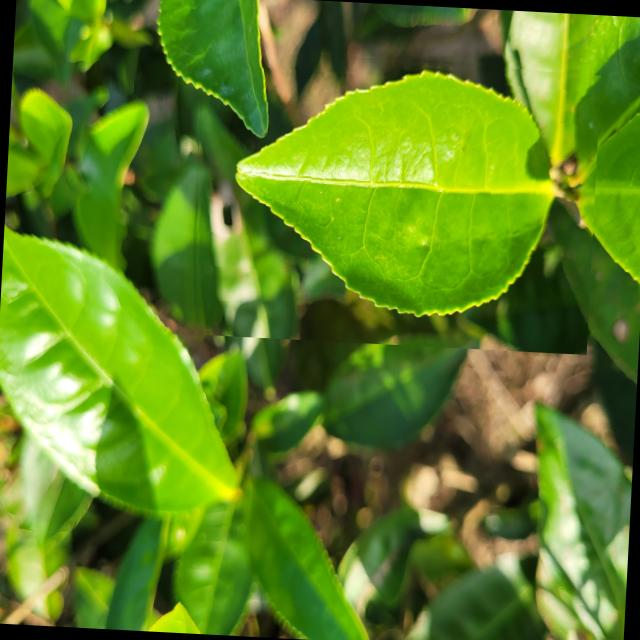Category B(2-4 days): (186, 44, 602, 354)
